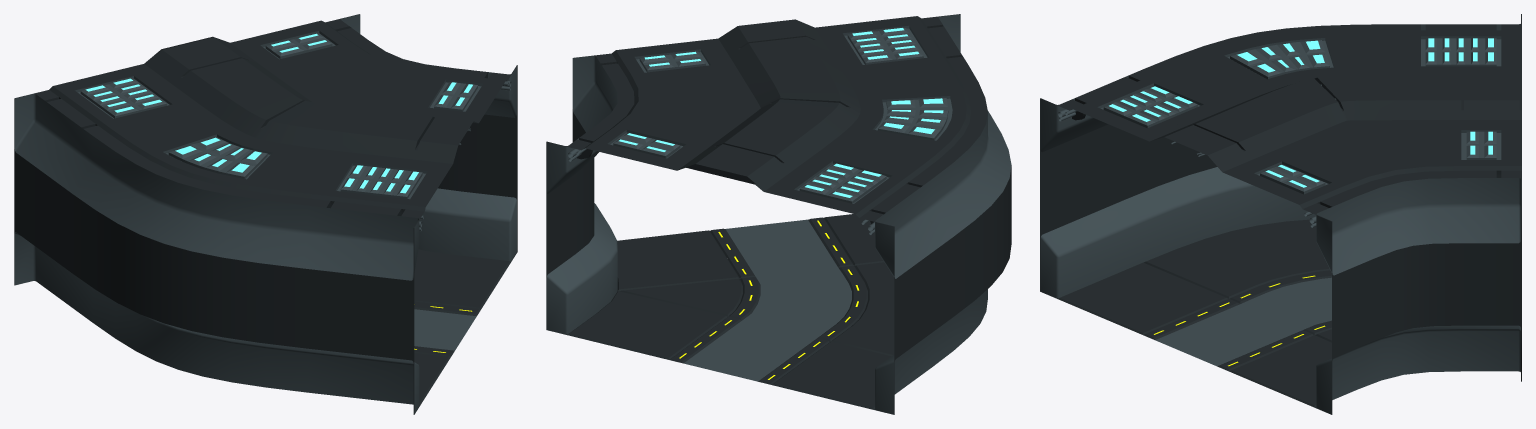
File: hallway120Right.fbx
3 views of the same model, side by side, from view 1: azimuth 30°, elevation 25°; view 2: azimuth 150°, elevation 25°; view 3: azimuth 270°, elevation 25° (orthographic). The views are drawn at different scales.
Parts seen in each view (by area): view 1: hallway120Right; view 2: hallway120Right; view 3: hallway120Right.
Boxes of the visible parts, x1,y1,x2,y2 form: hallway120Right: (14, 14, 517, 414); hallway120Right: (546, 14, 1011, 414); hallway120Right: (1040, 14, 1521, 414).
Size of what is drawn, in the model's own units: 8.1 by 7.94 by 3.77.
